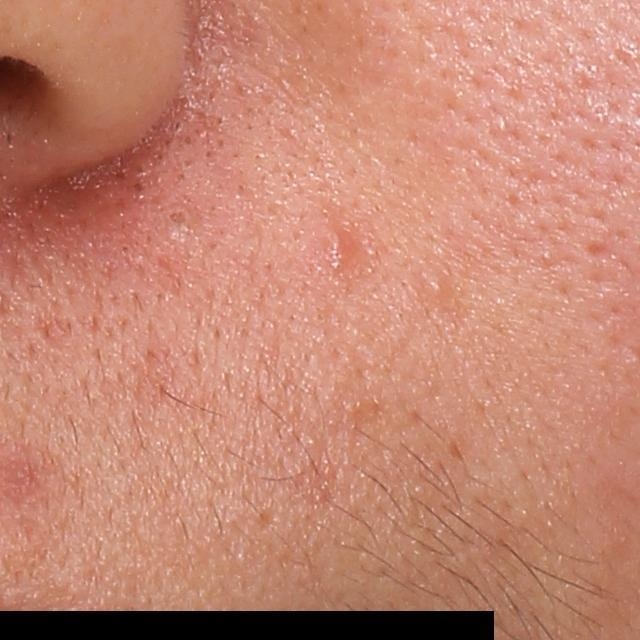comedo: (161, 204, 195, 234), (421, 271, 451, 301)
papule: (306, 204, 360, 281)
